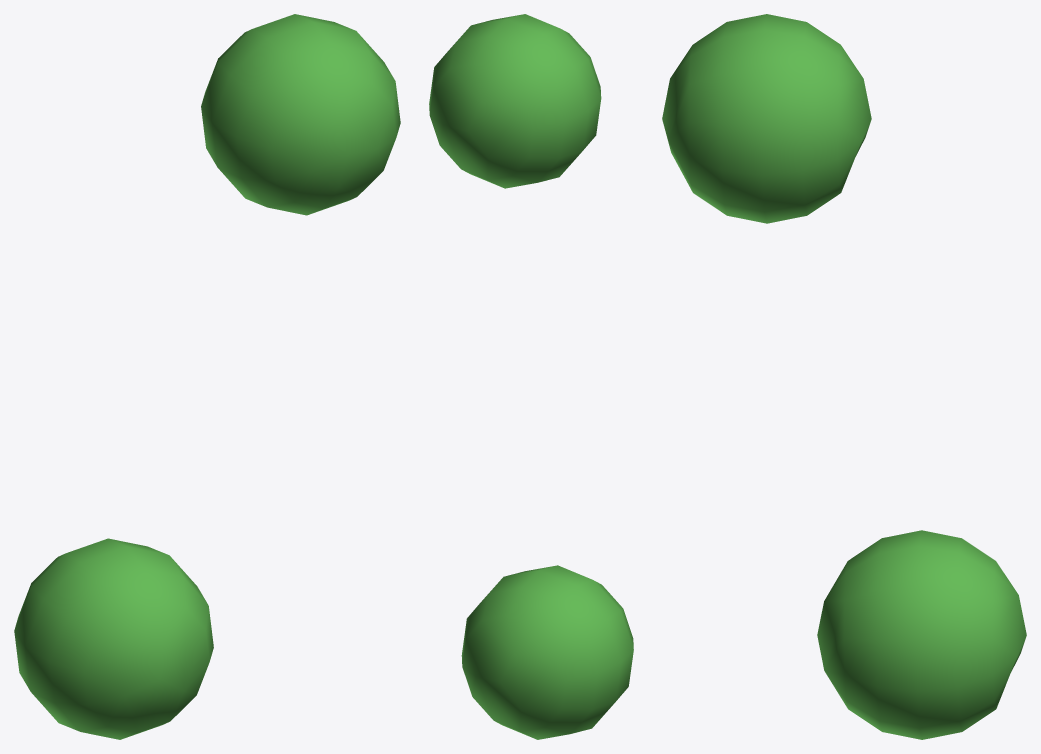
Rendered from linfatico-deep-popliteal-nodes-r.glb.
3 renders of one model, left to right at view 1: azimuth 30°, elevation 25°; view 2: azimuth 150°, elevation 25°; view 3: azimuth 270°, elevation 25°, orthographic. The views are drawn at different scales.
Parts seen in each view (by area): view 1: Deep popliteal nodes.r; view 2: Deep popliteal nodes.r; view 3: Deep popliteal nodes.r.
Boxes of the visible parts, x1,y1,x2,y2 form: Deep popliteal nodes.r: (14,14,400,739); Deep popliteal nodes.r: (429,14,633,739); Deep popliteal nodes.r: (662,14,1026,739).
Size of the model in its own units: 0.00424 by 0.0104 by 0.00452.
